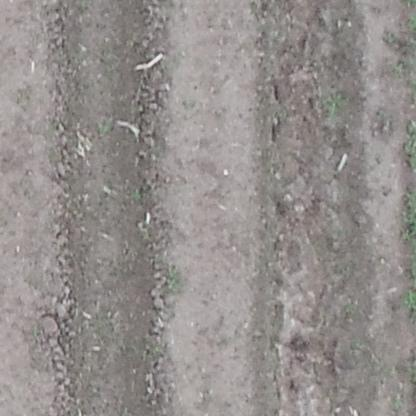corn: (322, 91, 354, 115)
